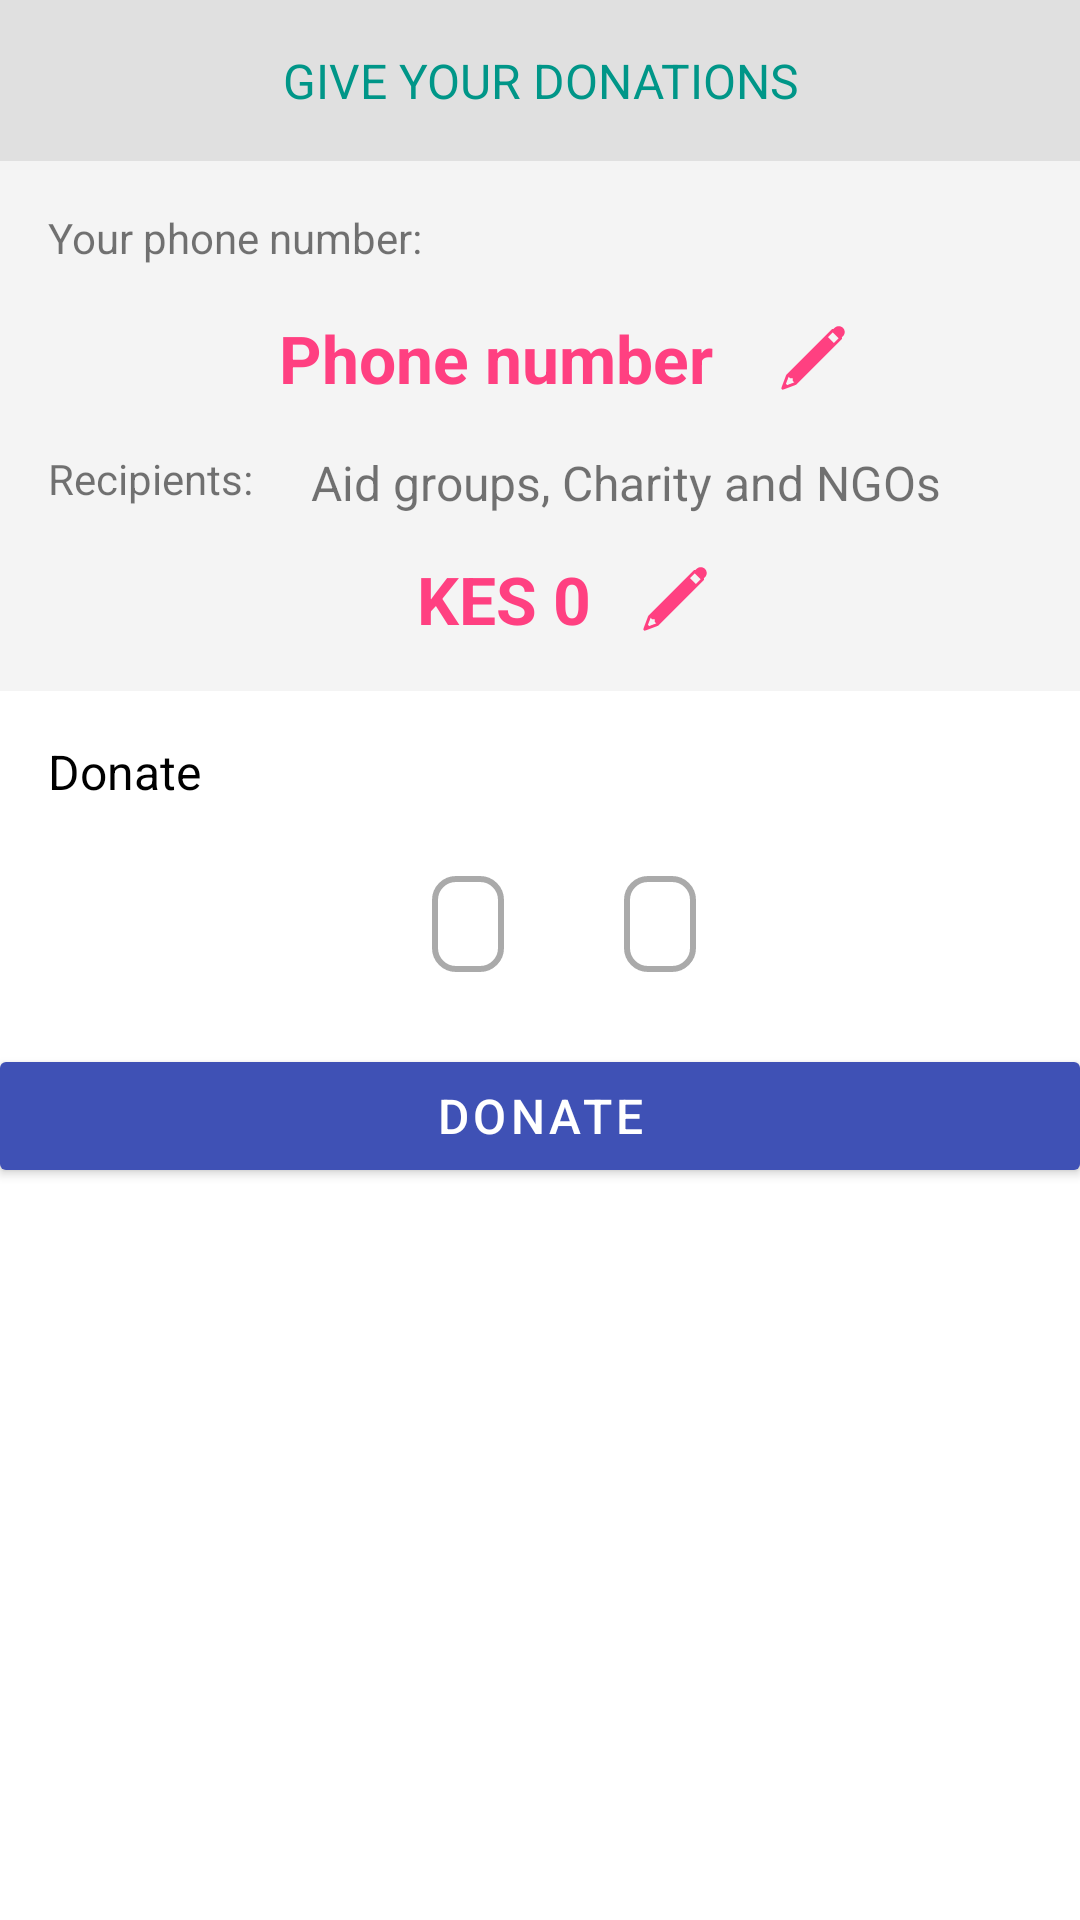

Icons on this 1080 x 1920 Android screen, each with the point to tap as [x,y]:
pencil: [813,358], [675,599]
